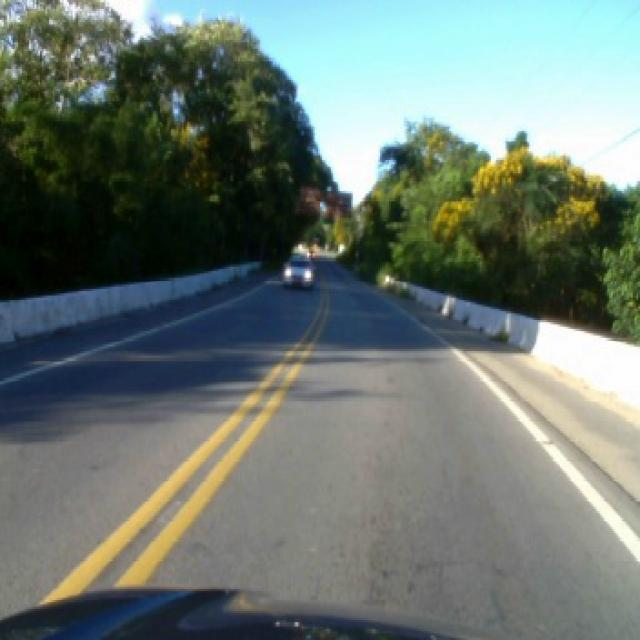Poth-hole: (540, 436, 553, 444)
